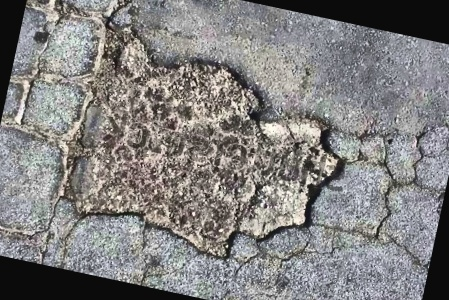pothole: (53, 30, 364, 282)
